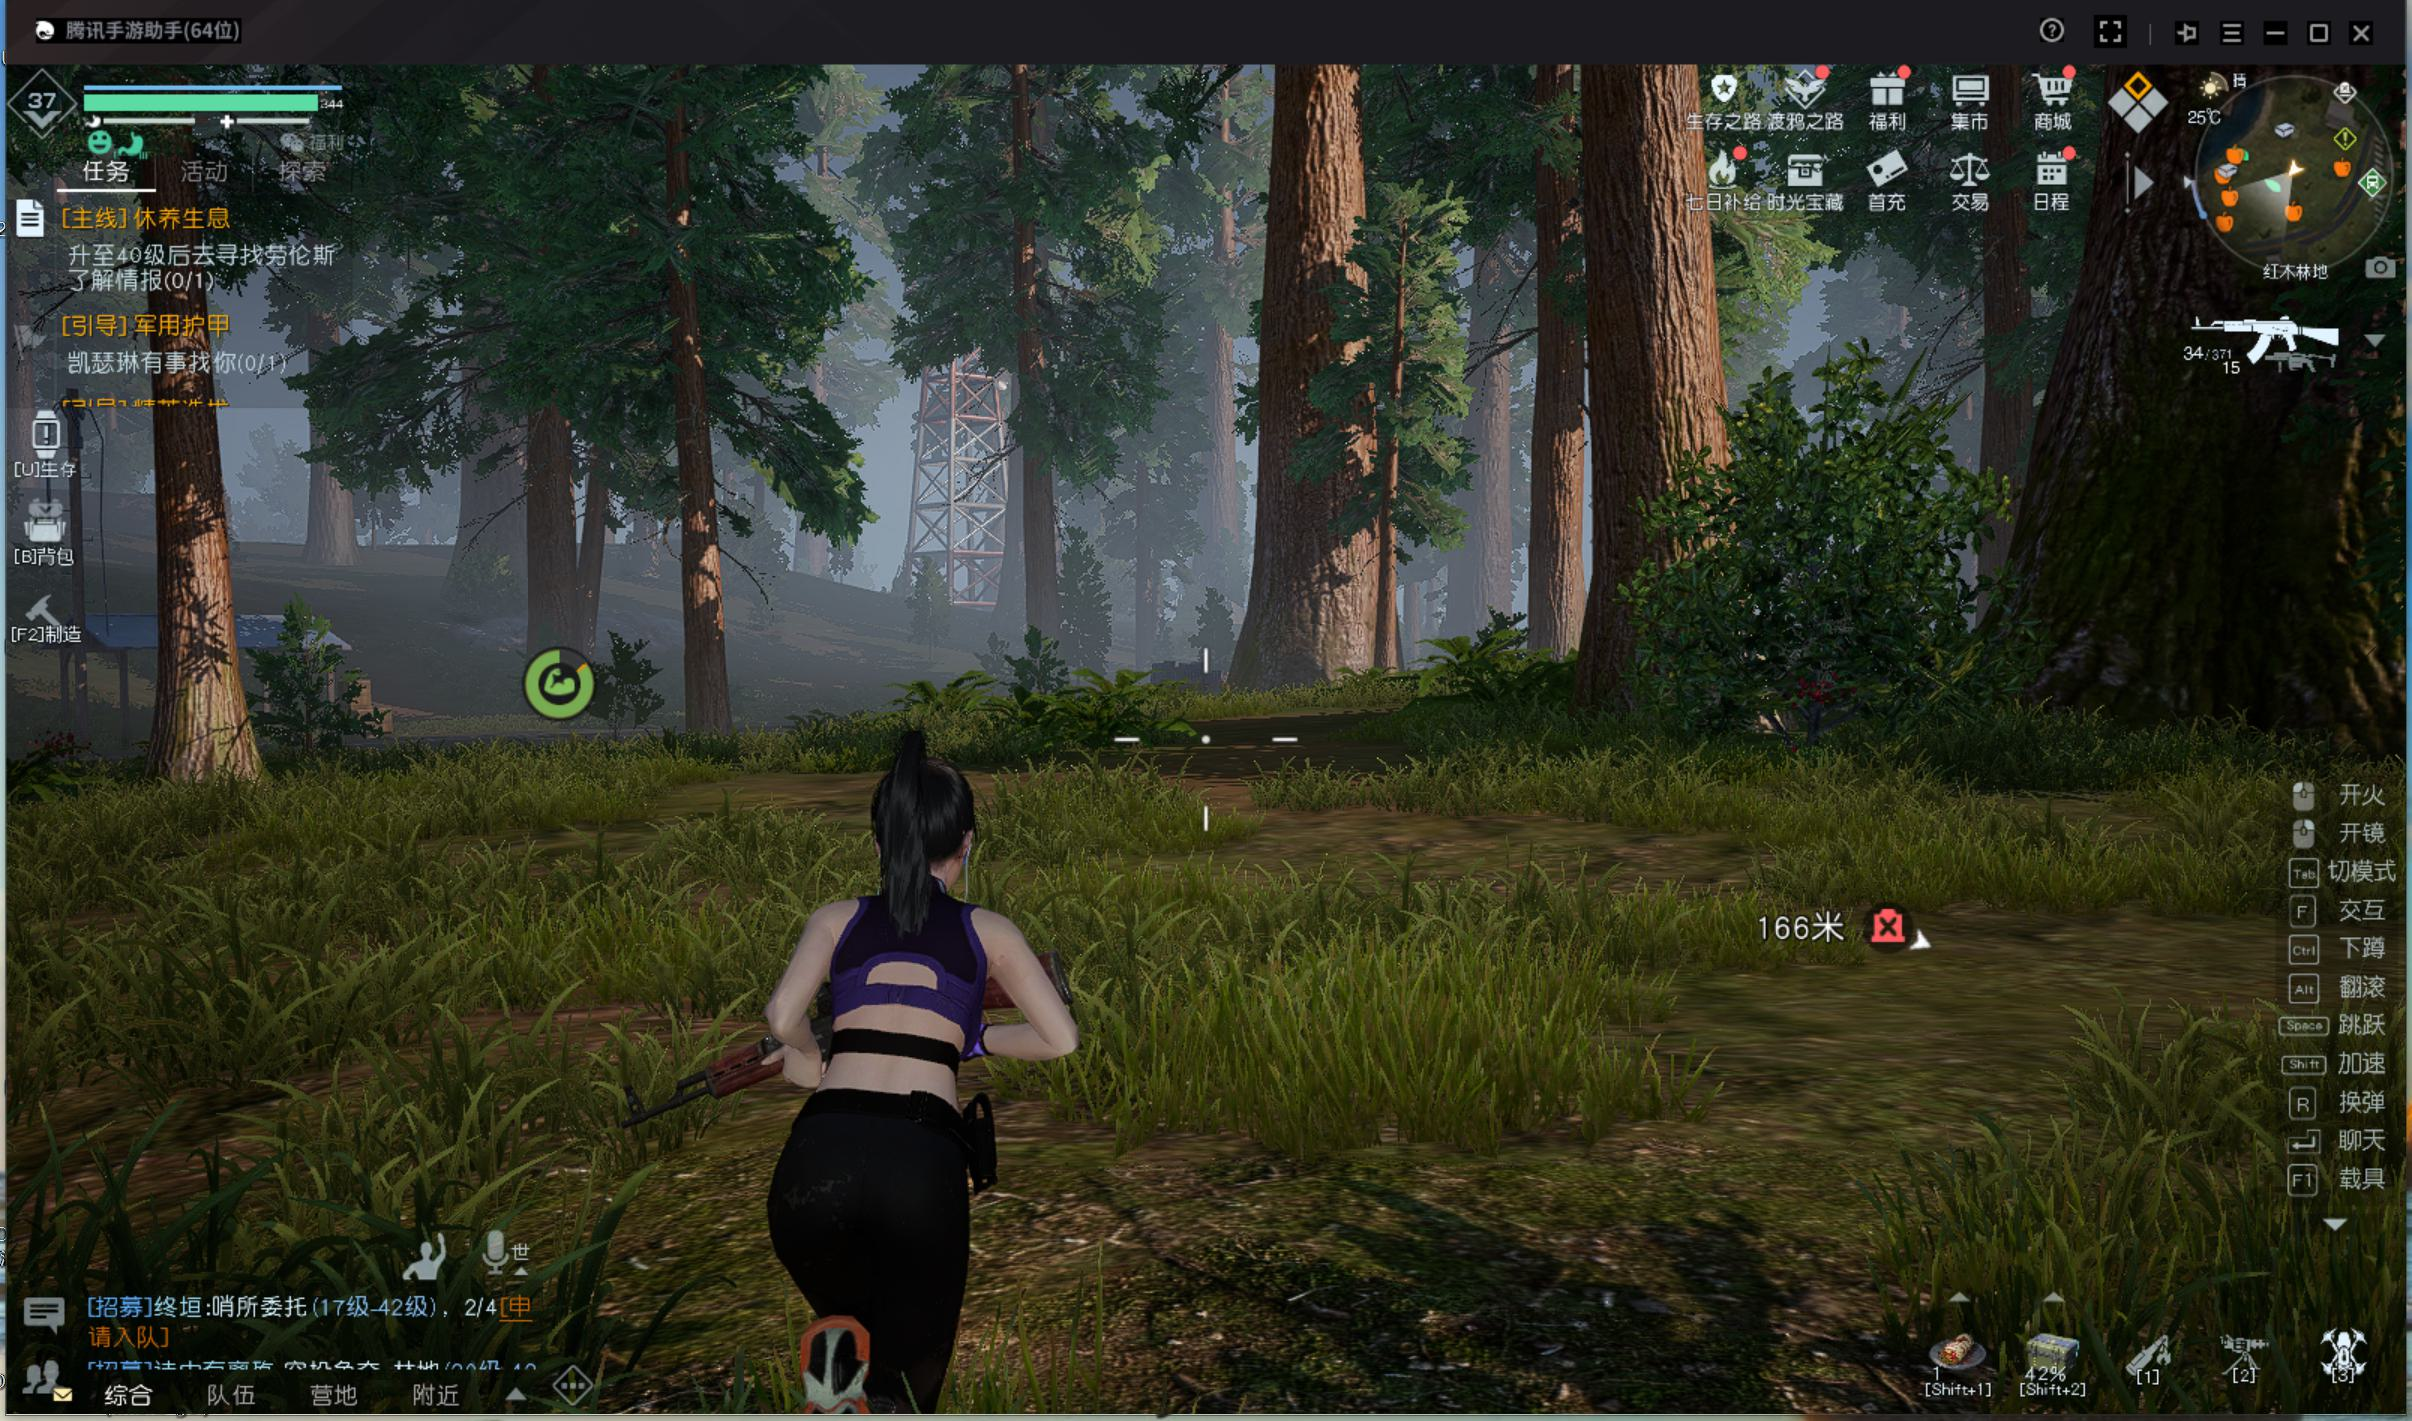tree: (1575, 117, 1754, 770), (1236, 223, 1402, 726), (144, 301, 266, 826), (1507, 200, 1582, 694), (1005, 343, 1067, 741), (678, 420, 726, 763)
